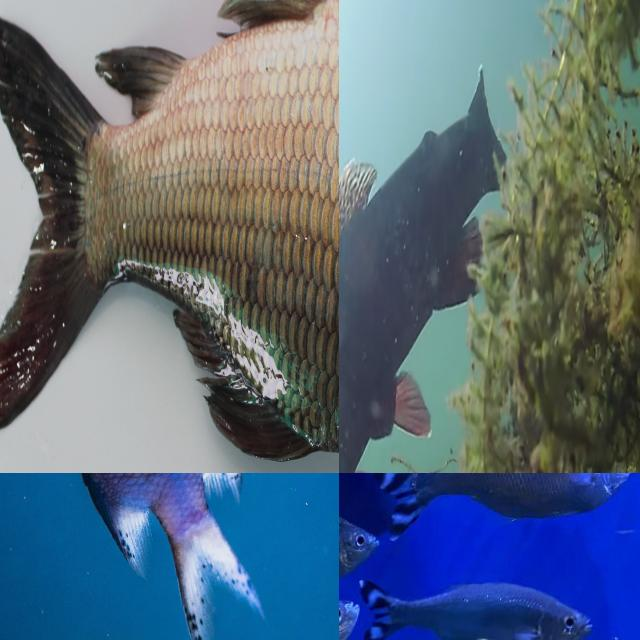fish: (0, 0, 339, 473), (339, 154, 640, 473), (101, 473, 339, 566)
